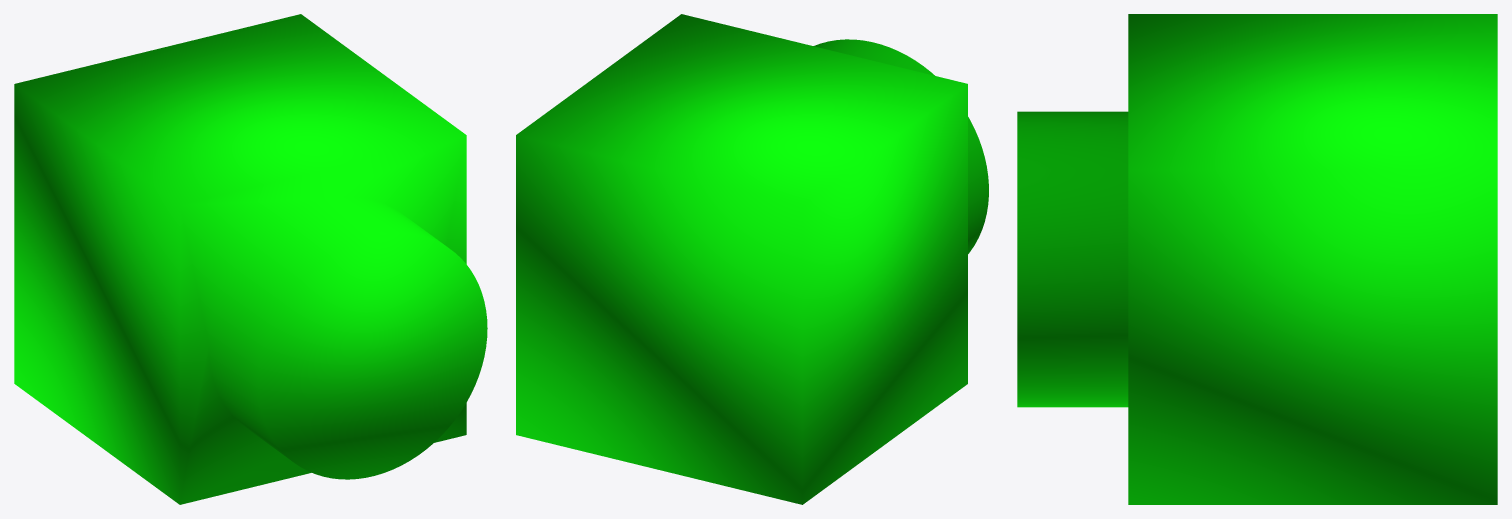
The model's file is camera2.obj.
3 renders of one model, left to right at view 1: azimuth 30°, elevation 25°; view 2: azimuth 150°, elevation 25°; view 3: azimuth 270°, elevation 25°, orthographic. The views are drawn at different scales.
Size of the model in its own units: 10 by 10 by 13.
